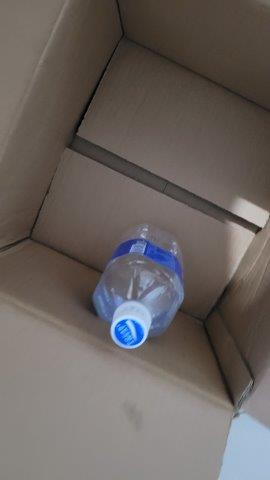botolplastik: (94, 222, 186, 353)
